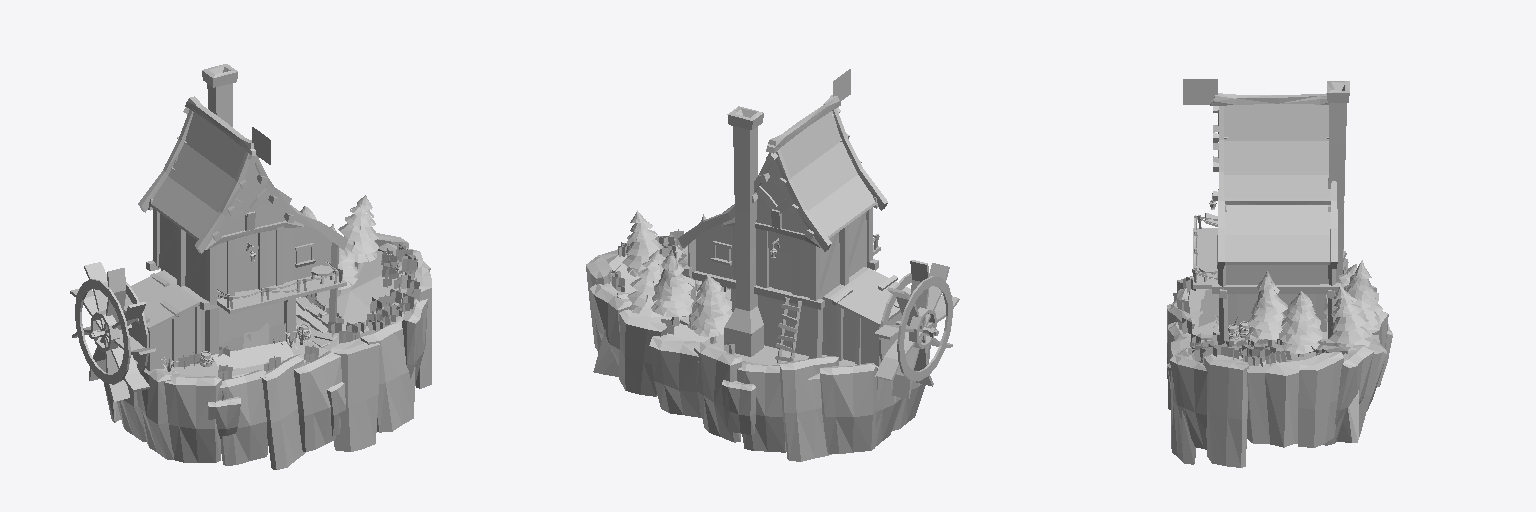
The model's file is watermill.obj.
3 views of the same model, side by side, from view 1: azimuth 30°, elevation 25°; view 2: azimuth 150°, elevation 25°; view 3: azimuth 270°, elevation 25° (orthographic).
Parts seen in each view (by area): view 1: grass1_Untitled; view 2: grass1_Untitled; view 3: grass1_Untitled.
Part boxes in pixels (left/top/right/bottom): grass1_Untitled: left=70, top=64, right=431, bottom=469; grass1_Untitled: left=586, top=69, right=959, bottom=461; grass1_Untitled: left=1167, top=79, right=1392, bottom=467.
Size of the model in its own units: 14.81 by 14.06 by 8.68.